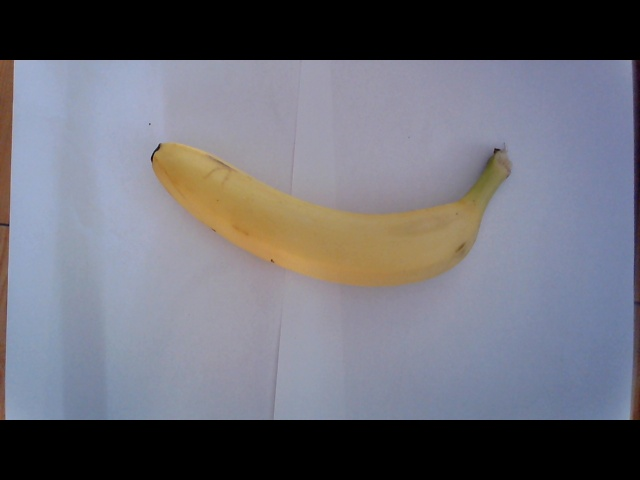banana: (139, 135, 510, 280)
